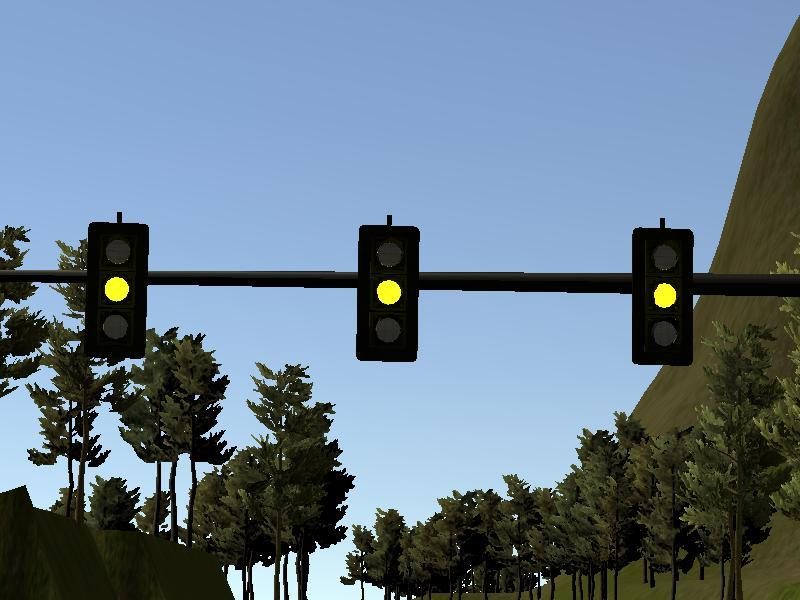Yellow: (358, 225, 419, 361), (632, 228, 693, 364), (87, 222, 147, 358)
